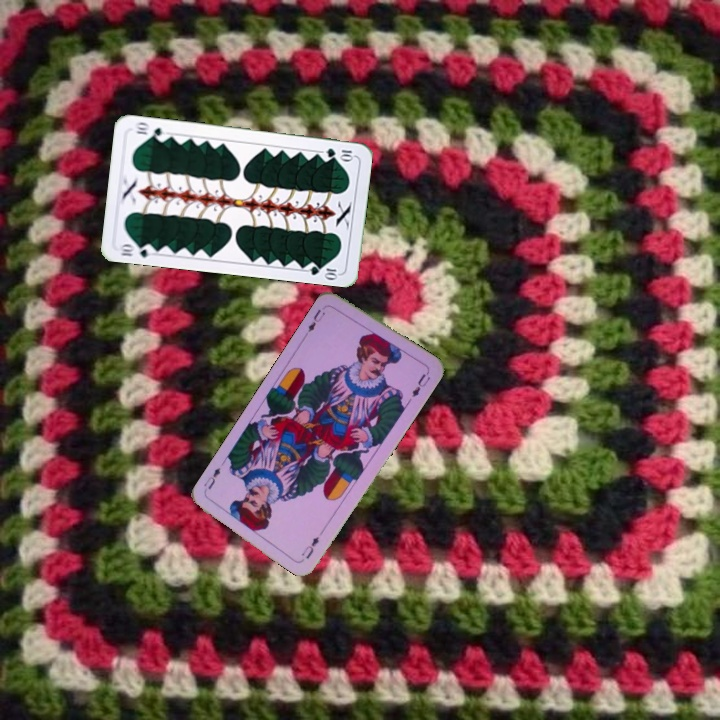EU: (301, 305, 328, 338), (298, 532, 322, 562)
G10: (115, 239, 156, 260), (322, 144, 356, 162)
